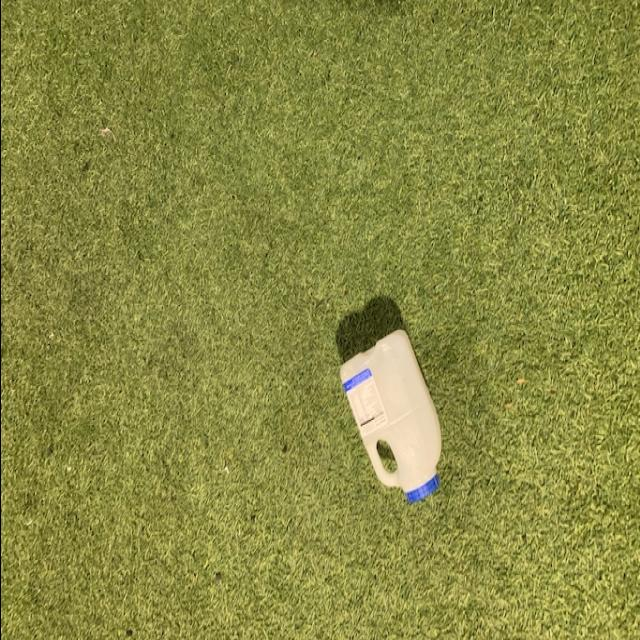HDPEM: (336, 325, 444, 504)
